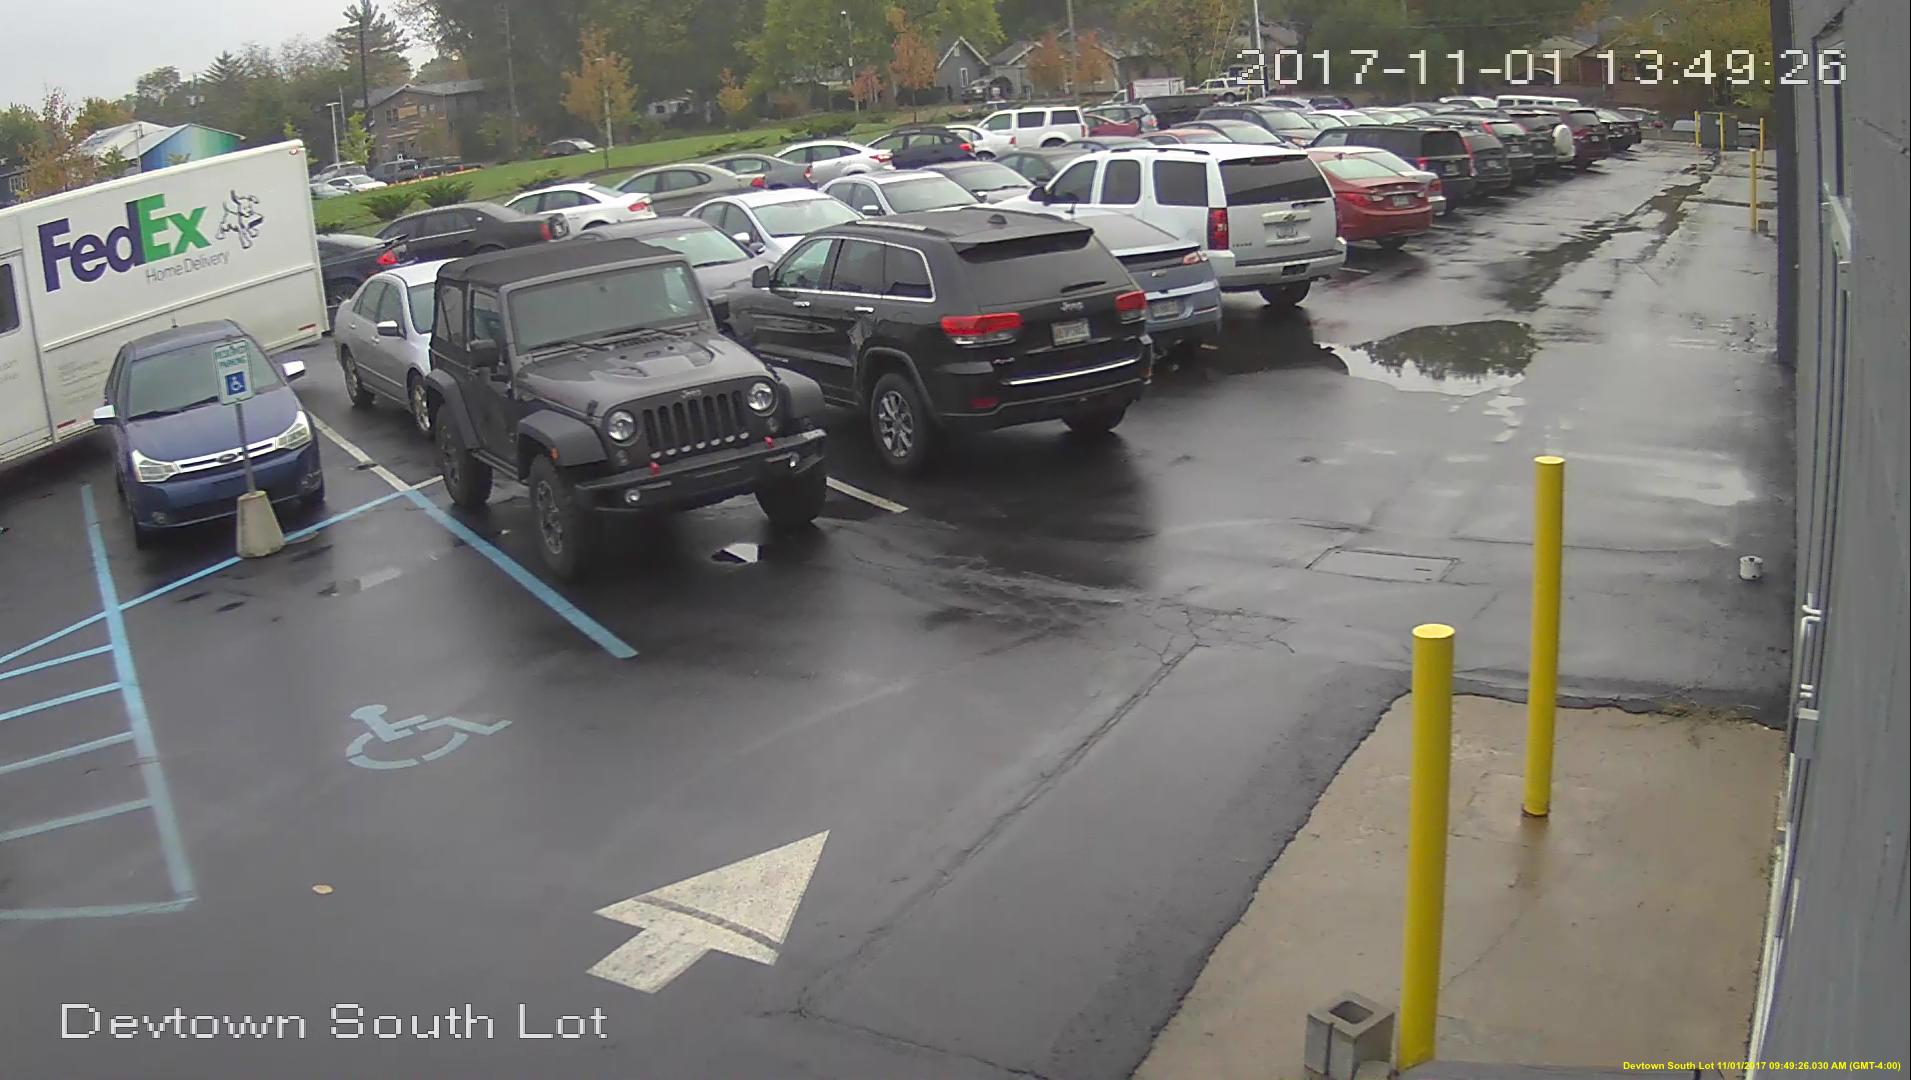fedex_truck: (1, 142, 304, 453)
